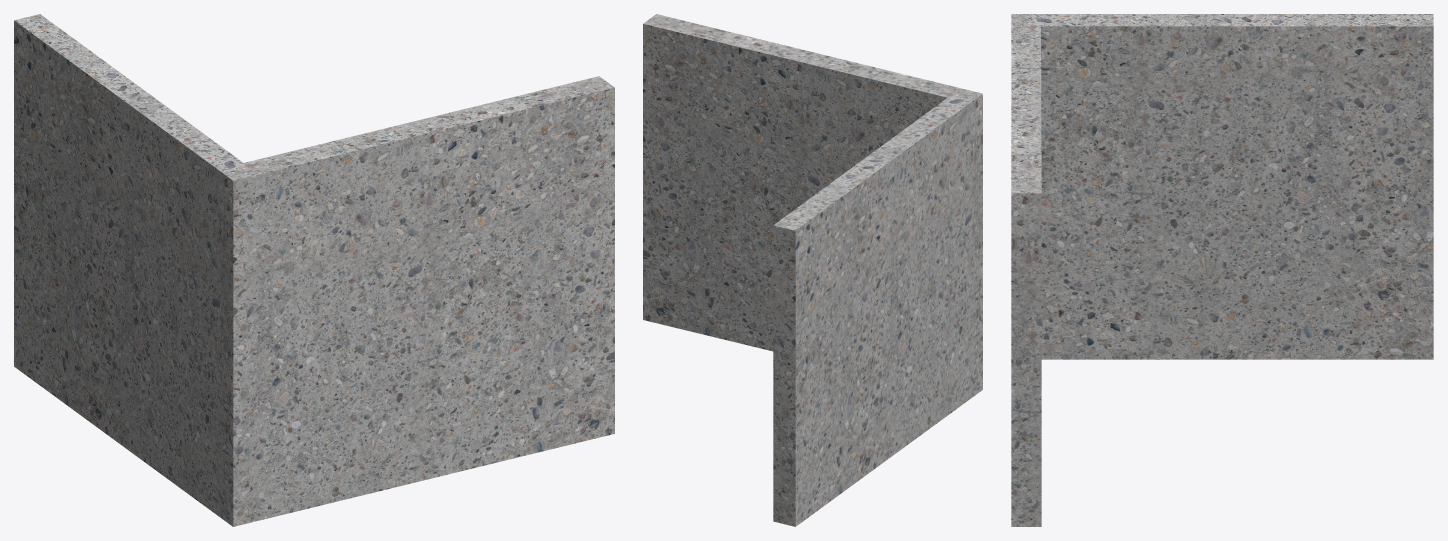
Rendered from EsquinaPared.fbx.
3 renders of one model, left to right at view 1: azimuth 30°, elevation 25°; view 2: azimuth 150°, elevation 25°; view 3: azimuth 270°, elevation 25°, orthographic. The views are drawn at different scales.
Visible parts, largest first — view 1: Cube.001; view 2: Cube.001; view 3: Cube.001.
Part boxes in pixels (bbox=[...]): Cube.001: bbox=[14, 14, 614, 526]; Cube.001: bbox=[643, 14, 982, 526]; Cube.001: bbox=[1011, 14, 1433, 526].
Bounding box in the file's own units: 462 × 400 × 459.
1 material, 1 textured.
